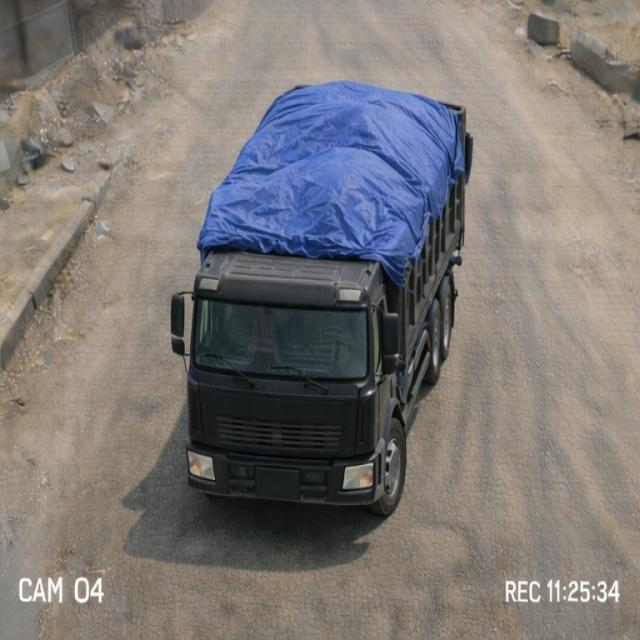Box: (196, 80, 474, 247)
Truck: (170, 74, 496, 520)
